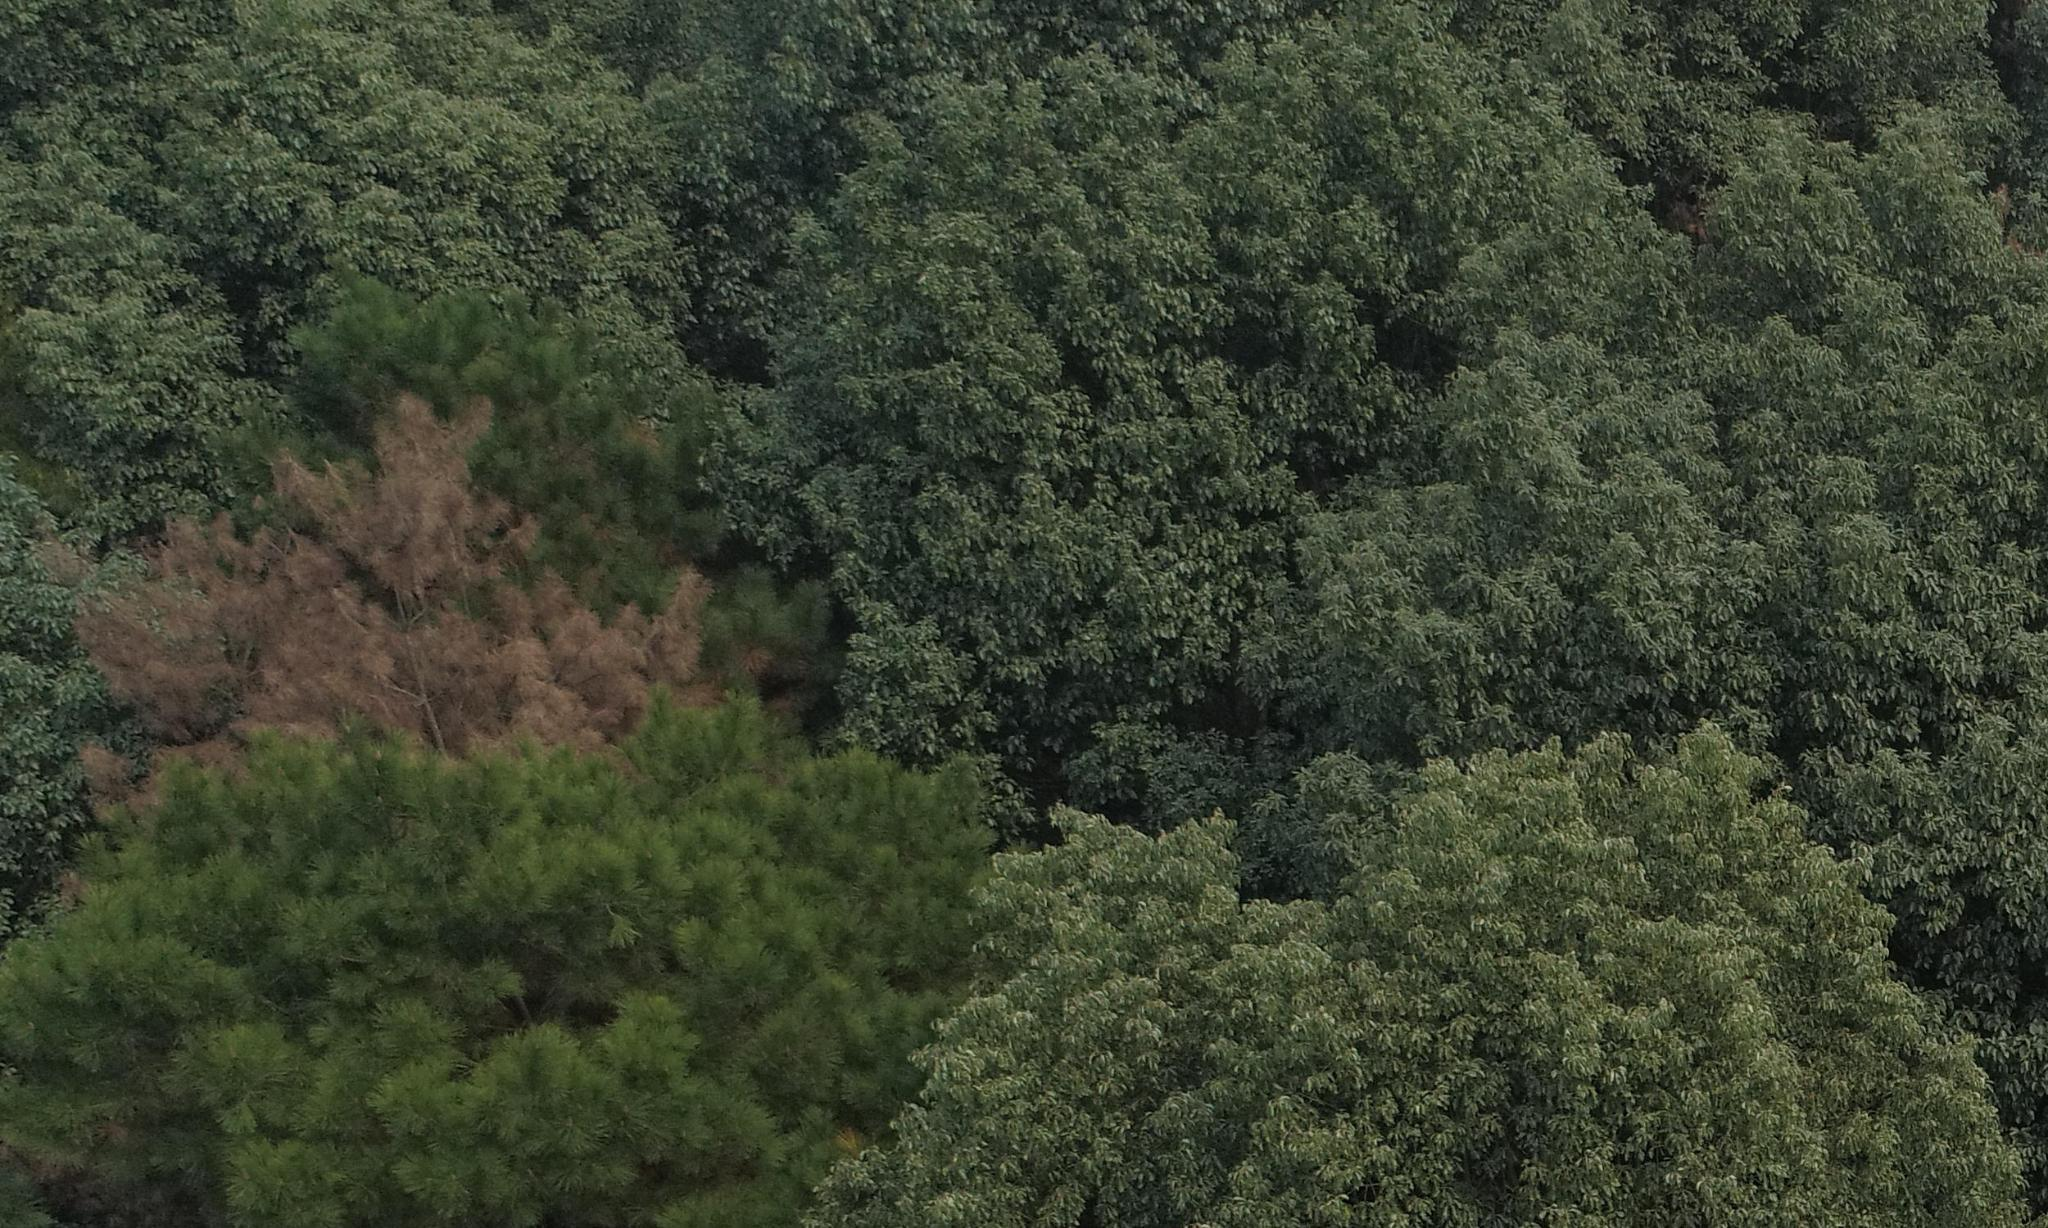heavy: (69, 387, 718, 803)
